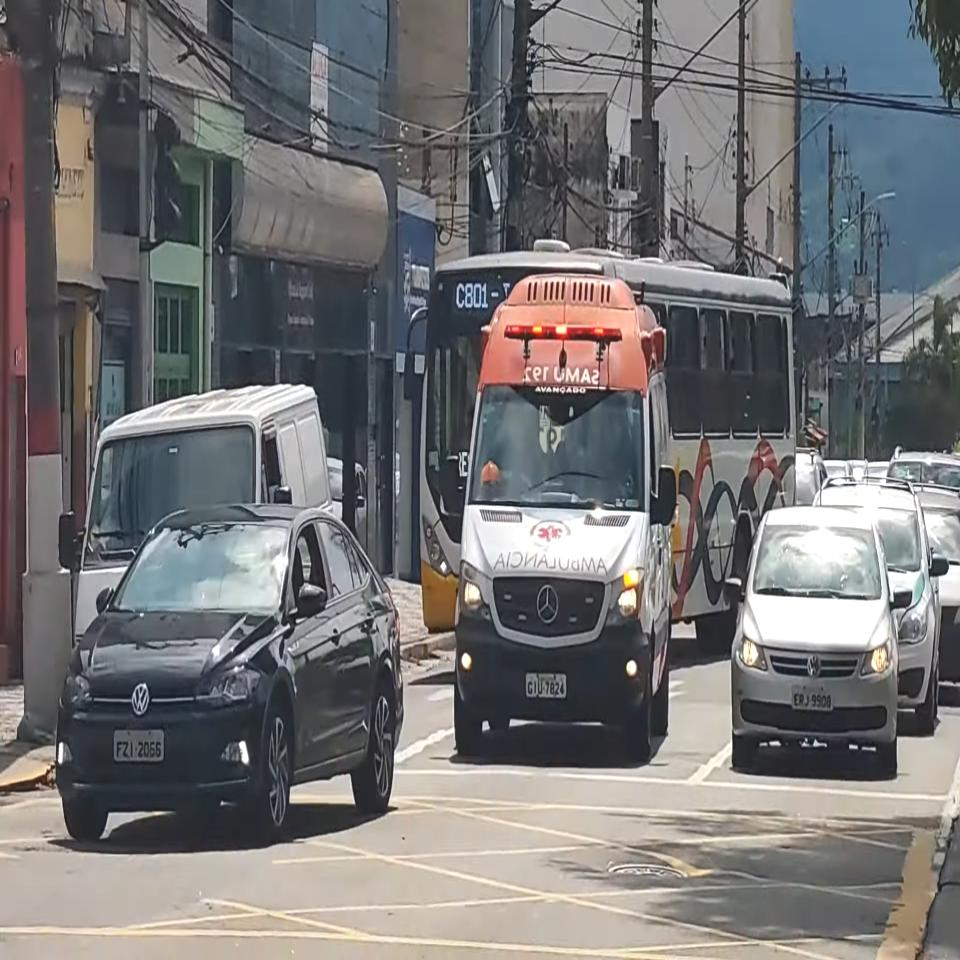ambulancia: (454, 274, 677, 759)
